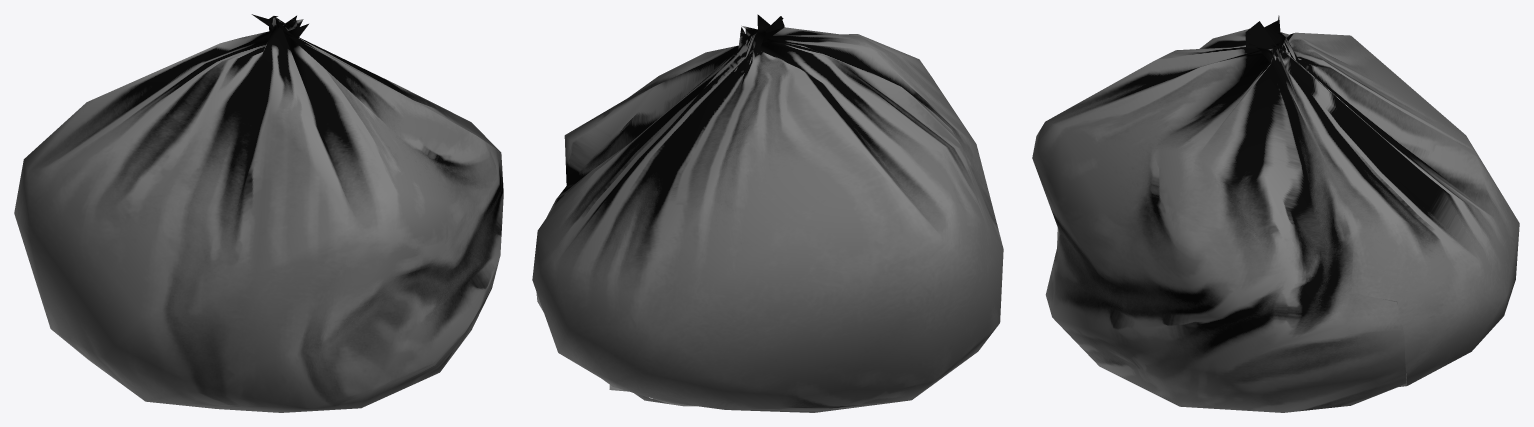
Rendered from bag.fbx.
The picture shows the model from 3 angles, left to right: view 1: azimuth 30°, elevation 25°; view 2: azimuth 150°, elevation 25°; view 3: azimuth 270°, elevation 25°; orthographic projection. The views are drawn at different scales.
Parts seen in each view (by area): view 1: Object_2; view 2: Object_2; view 3: Object_2.
Boxes of the visible parts, x1,y1,x2,y2 form: Object_2: [14, 14, 503, 412]; Object_2: [532, 14, 1003, 412]; Object_2: [1032, 15, 1519, 412].
Bounding box in the file's own units: 13629 × 10032 × 13571.
